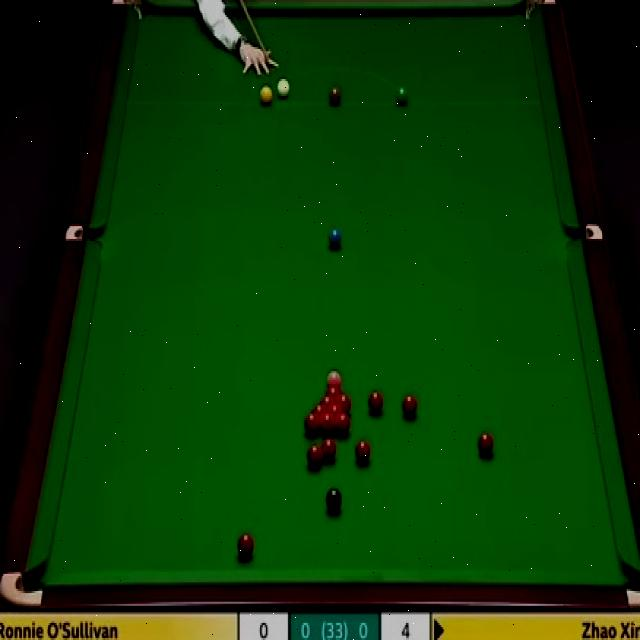black-ball: (324, 486, 342, 512)
blue-ball: (328, 227, 343, 249)
brown-ball: (327, 84, 342, 106)
green-ball: (394, 85, 410, 107)
pink-ball: (326, 369, 342, 388)
red-ball: (235, 532, 256, 559), (335, 413, 351, 440), (402, 392, 418, 419), (478, 431, 493, 459), (354, 438, 370, 464), (304, 410, 320, 435), (307, 443, 322, 468), (368, 389, 383, 414), (319, 412, 336, 434), (322, 438, 337, 461), (318, 394, 336, 405), (338, 394, 350, 410), (328, 404, 346, 414), (325, 387, 341, 397), (313, 404, 328, 413)
white-ball: (274, 77, 292, 100)
yellow-ball: (258, 83, 273, 105)
